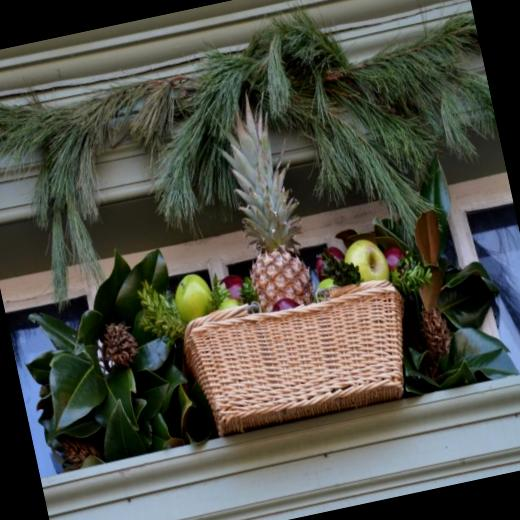Mango: (209, 78, 326, 314)
